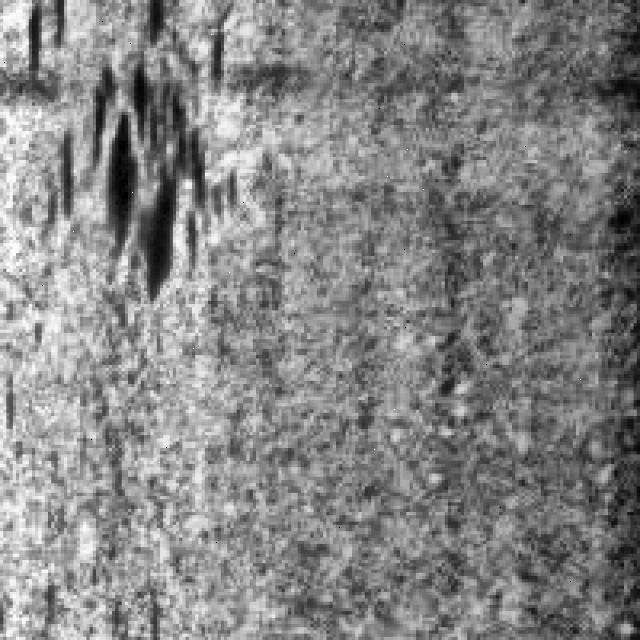Patches: (41, 35, 228, 291)
